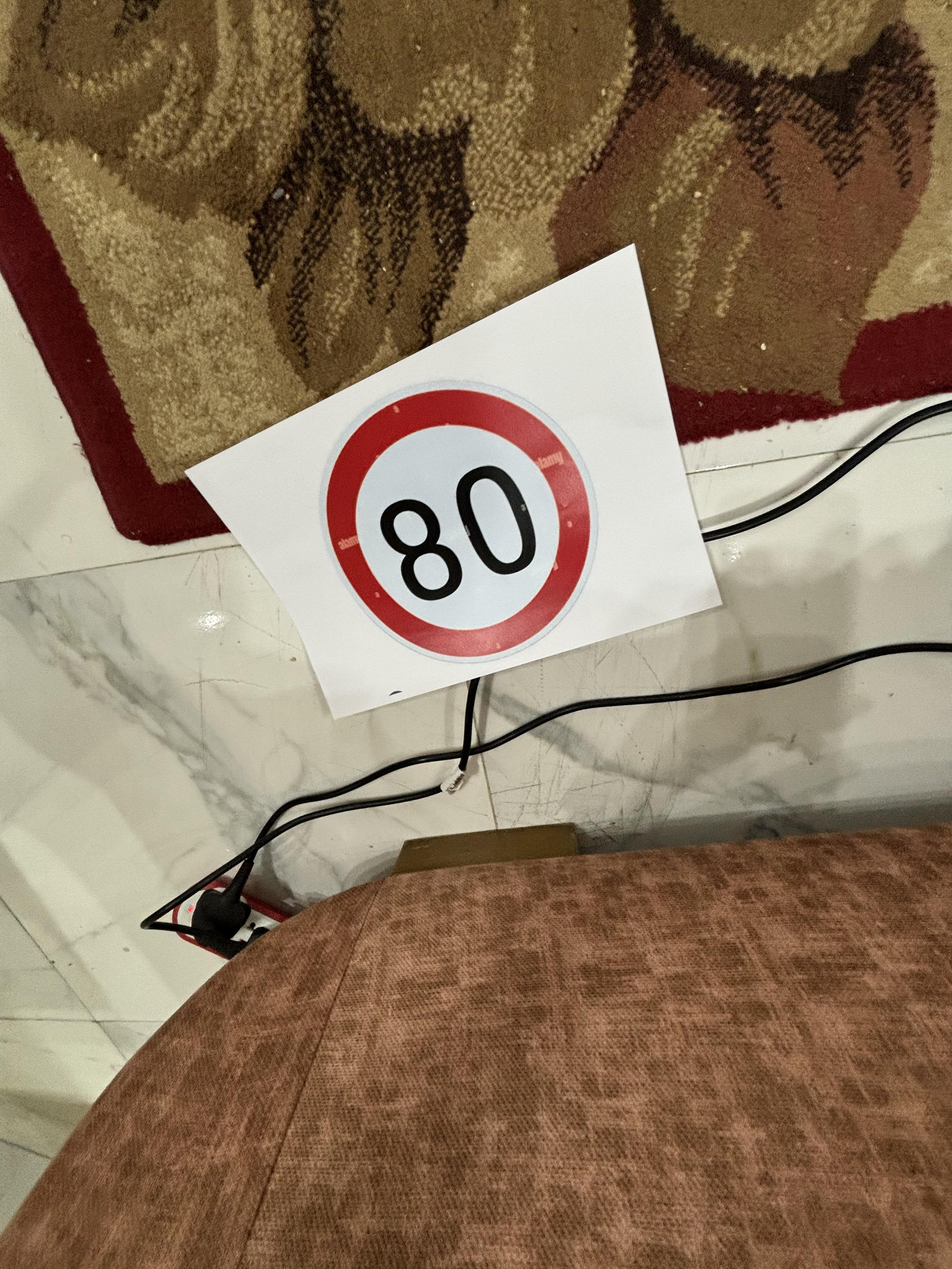80-Speed: (334, 388, 593, 659)
